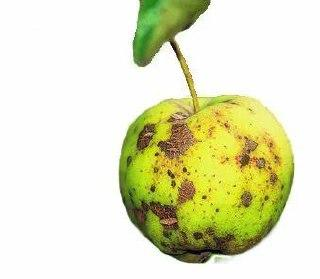Apple: (119, 95, 293, 264)
